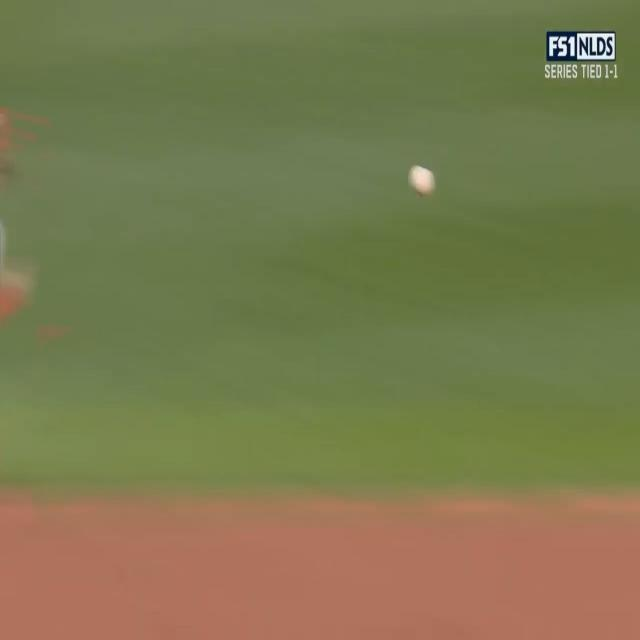baseball: (410, 163, 436, 199)
